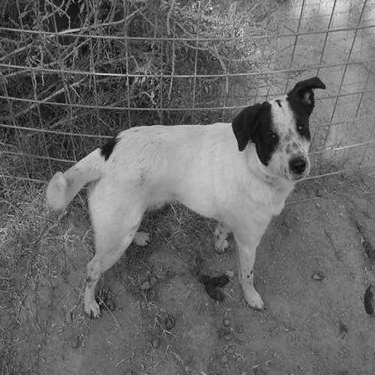dog: (40, 73, 328, 321)
